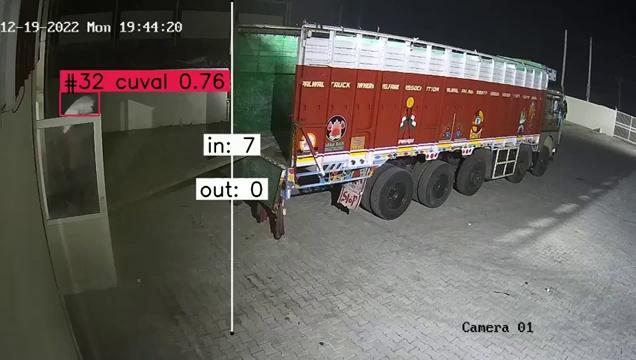karung: (62, 94, 97, 113)
